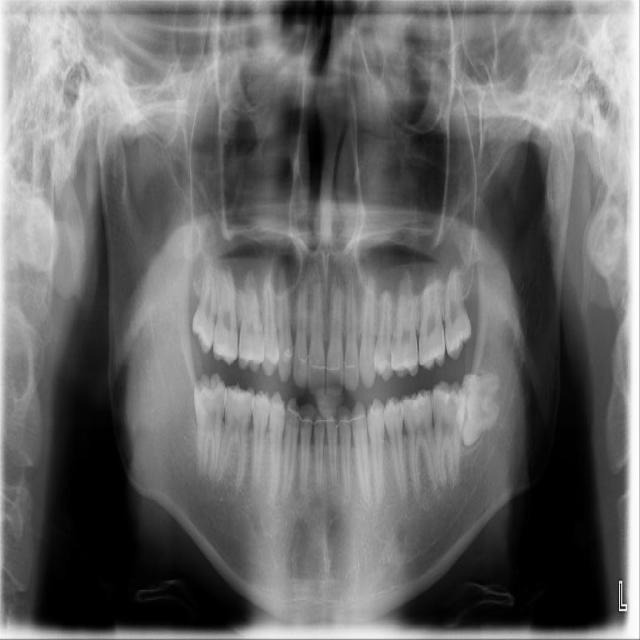3M ESPE Implant: (189, 261, 220, 356)
73: (598, 576, 604, 580)
BioHorizons Implant: (416, 264, 446, 373)
BioLife Implant: (440, 263, 474, 360)
Biomet 3i Implant: (457, 369, 503, 447)
Blue Sky Bio Implant: (431, 380, 466, 487)
Caries: (212, 265, 238, 368)
Implant: (192, 371, 232, 483)
